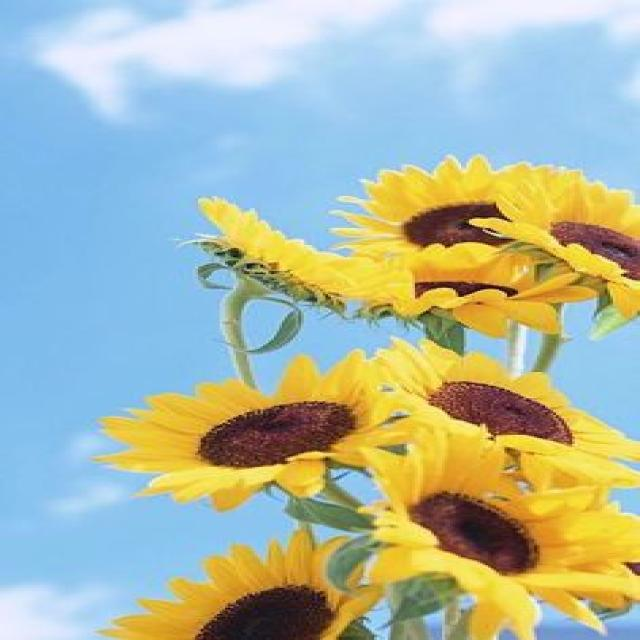sunflower: (355, 416, 640, 640), (90, 348, 418, 512), (366, 336, 638, 494), (95, 528, 385, 639), (467, 164, 638, 320), (326, 153, 540, 267), (354, 242, 598, 338), (182, 195, 382, 306)
